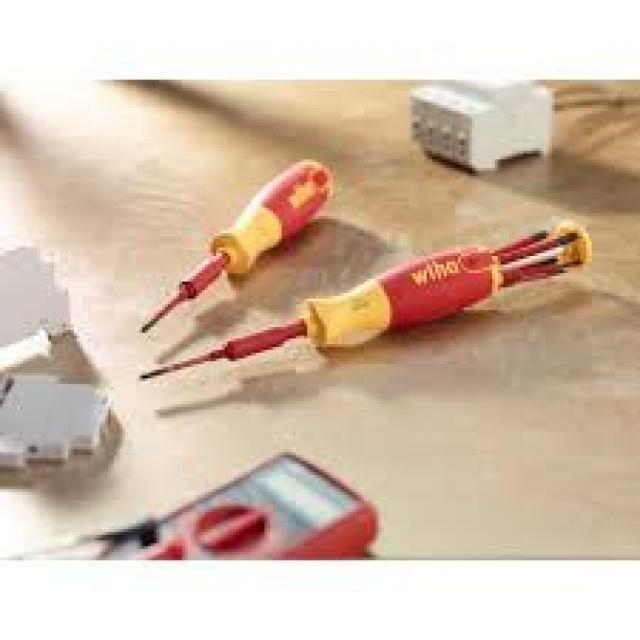screwdriver: (132, 218, 595, 390), (134, 152, 338, 346)
